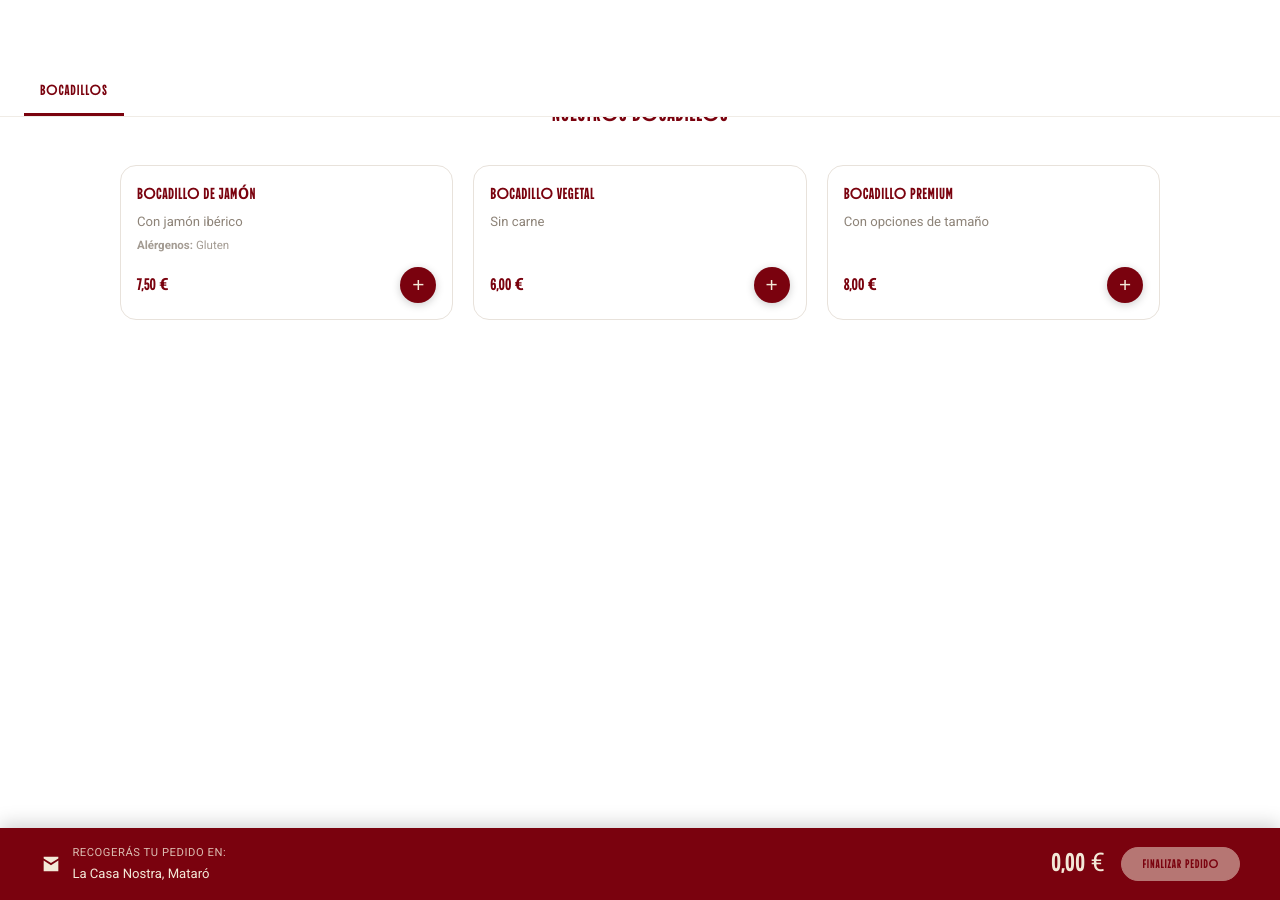
it: OrderCatalog page › adding from modal adds to cart and closes modal
Expected: the heading "Bocadillo de Jamón" is shown, [137,186,256,202]
Click the button with aria-label "Ver detalle de Bocadillo de Jamón".
click(196, 194)  # box [120,165,453,320]
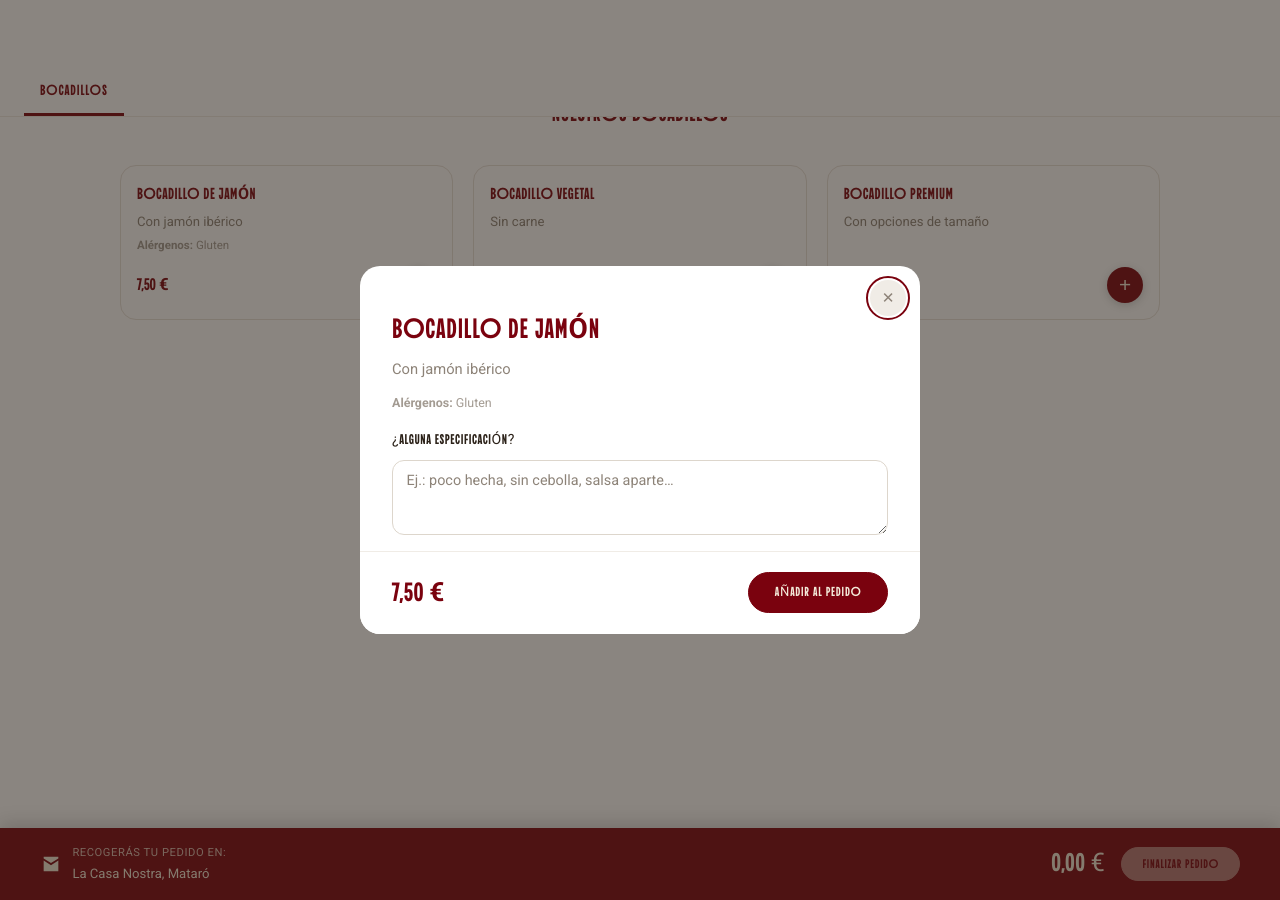
Expected: the button named "Cerrar ficha del producto" is shown, [870,280,906,316]
Note: Wait for modal close button to appear
Click the button "Añadir al pedido".
click(818, 593)  # box [748,572,888,613]
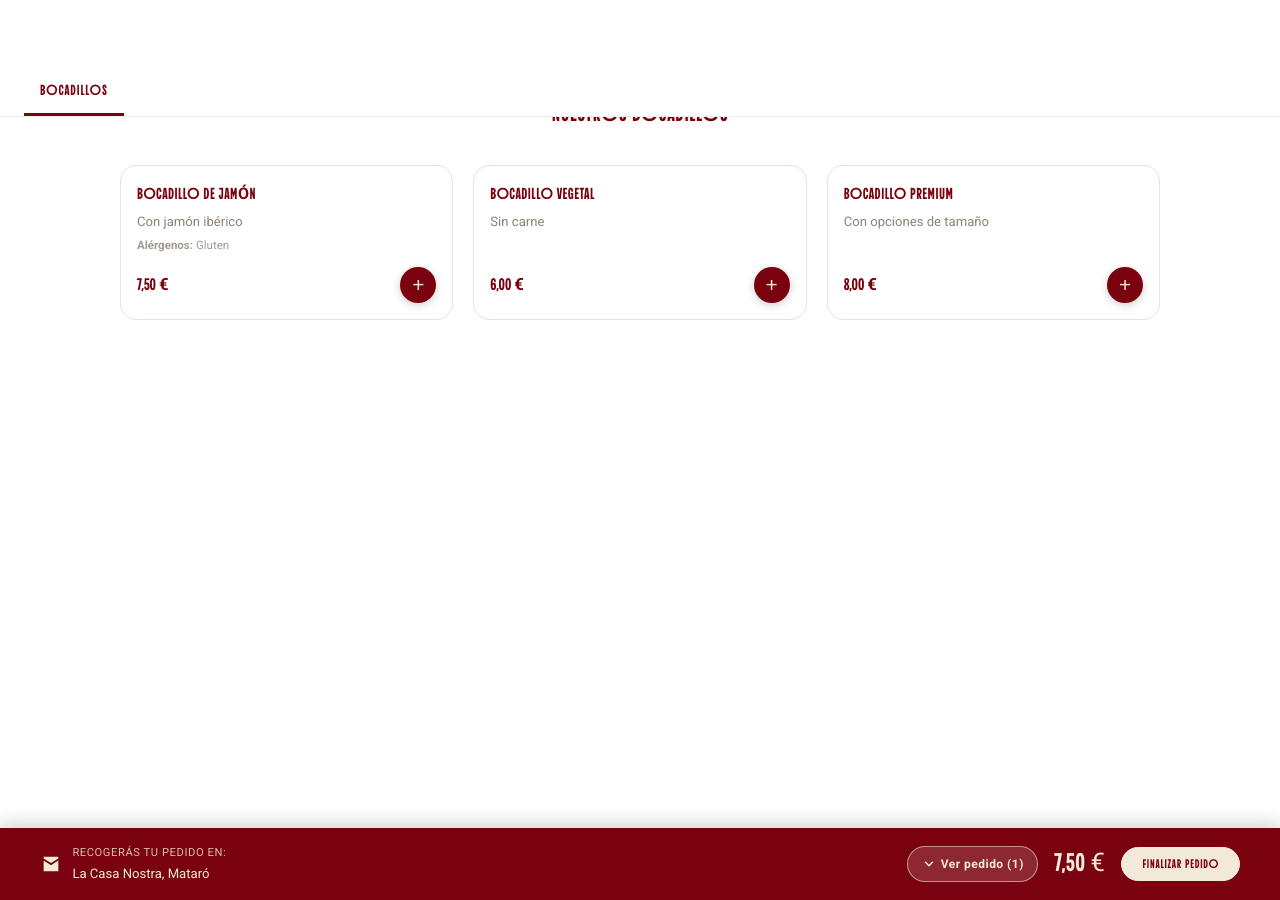
Expected: the button "Ver pedido (1)" is shown, [907,846,1038,882]
